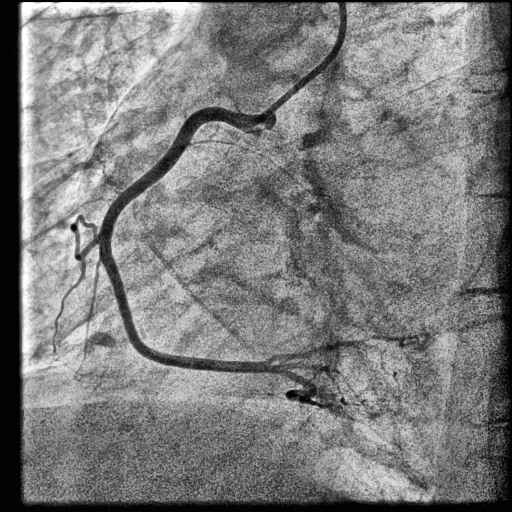pda: (268, 365, 333, 408)
rca: (100, 107, 272, 373)
